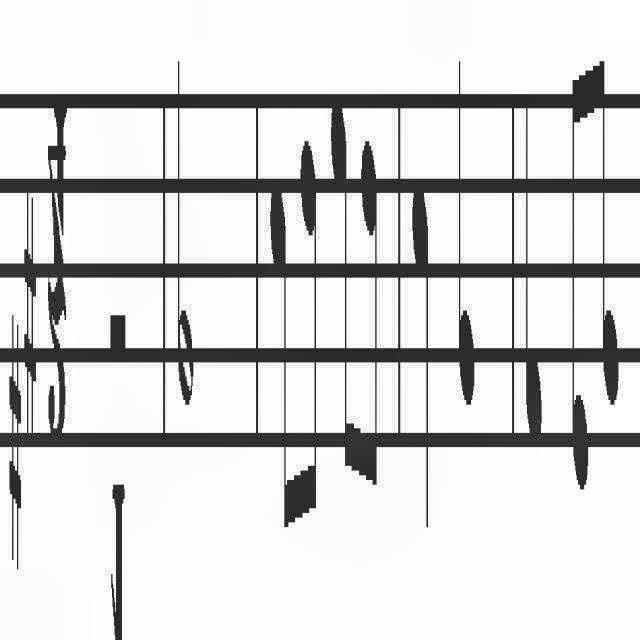Diez: (22, 183, 38, 444), (6, 310, 22, 570)
Eighth-note: (592, 56, 620, 428), (328, 97, 352, 511), (268, 182, 294, 558), (296, 140, 320, 532), (570, 59, 590, 509), (358, 129, 380, 527)
Half-note: (176, 51, 196, 421)
Quarter-note: (456, 54, 476, 424), (411, 180, 431, 548), (524, 94, 544, 446)
